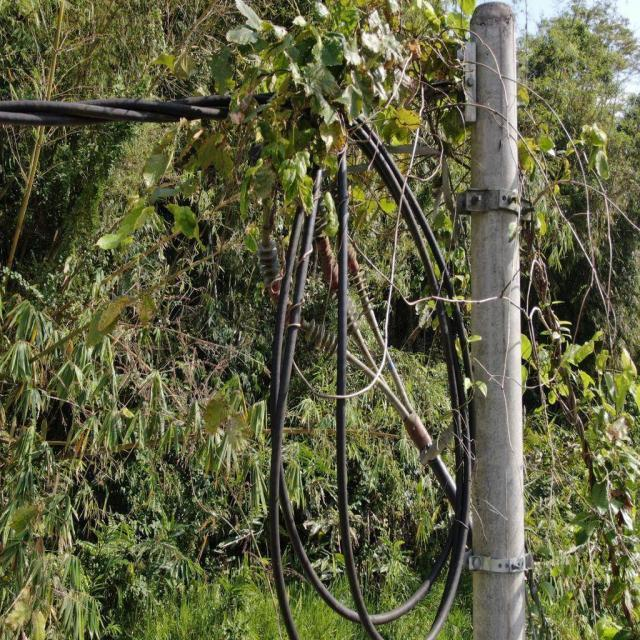critical vegetation: (212, 17, 507, 614)
